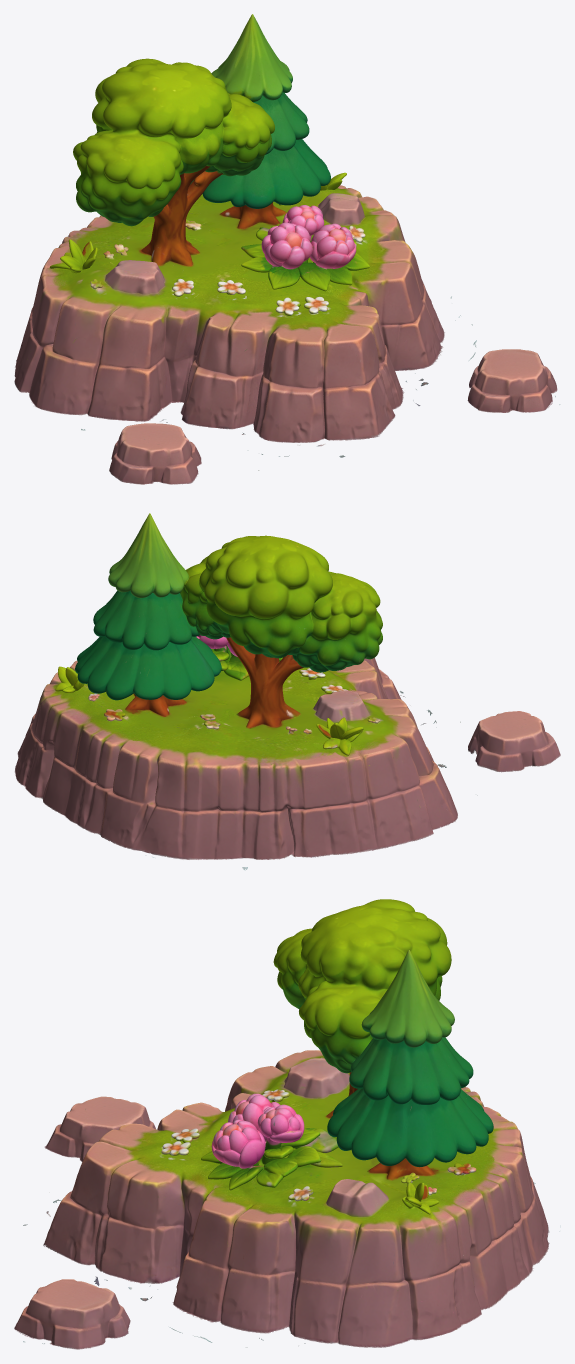
File: mixed-trees-islet-01.glb
3 renders of one model, top to bottom at view 1: azimuth 30°, elevation 25°; view 2: azimuth 150°, elevation 25°; view 3: azimuth 270°, elevation 25°, orthographic. The views are drawn at different scales.
Size of the model in its own units: 1.6 by 1.05 by 1.6.
Materials: 1 (1 with a texture image).
